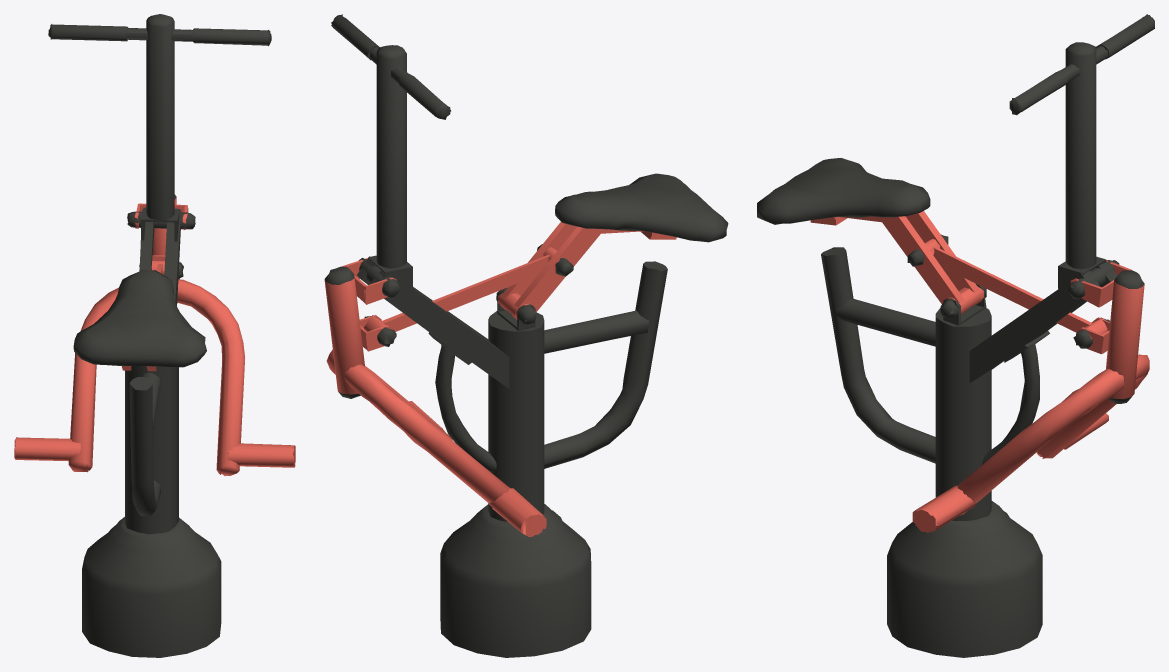
File: тренажер2.glb
The picture shows the model from 3 angles, left to right: view 1: azimuth 30°, elevation 25°; view 2: azimuth 150°, elevation 25°; view 3: azimuth 270°, elevation 25°; orthographic projection. The views are drawn at different scales.
Parts seen in each view (by area): view 1: SM_Aviomotornaya_ZU_5_Flora.004; view 2: SM_Aviomotornaya_ZU_5_Flora.004; view 3: SM_Aviomotornaya_ZU_5_Flora.004.
Boxes of the visible parts, <box> form: SM_Aviomotornaya_ZU_5_Flora.004: <box>14,14,295,657</box>; SM_Aviomotornaya_ZU_5_Flora.004: <box>324,14,728,657</box>; SM_Aviomotornaya_ZU_5_Flora.004: <box>757,14,1154,657</box>.
Bounding box in the file's own units: 0.6944 × 1.33 × 0.785.
Materials: 1 (1 with a texture image).
